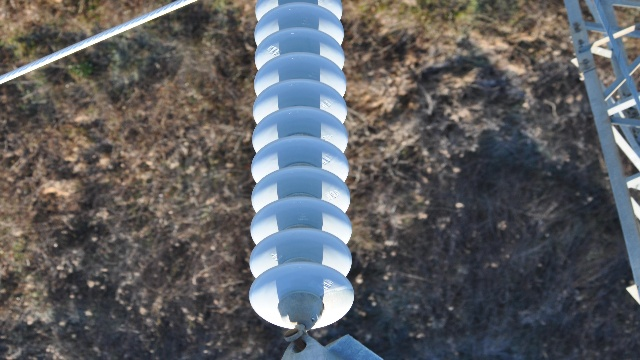insulator_unspecified: (249, 0, 356, 330)
pollution_flashover_local: (320, 284, 355, 302)
